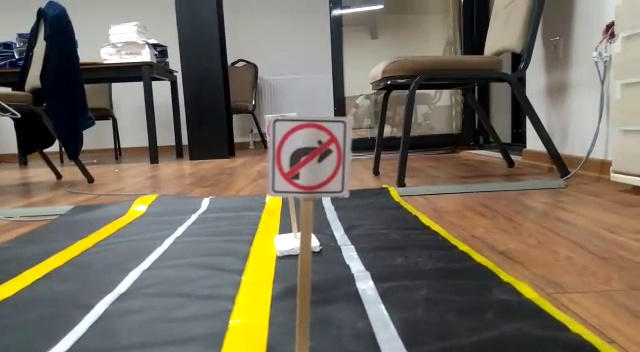saga_donulmez: (273, 120, 348, 193)
